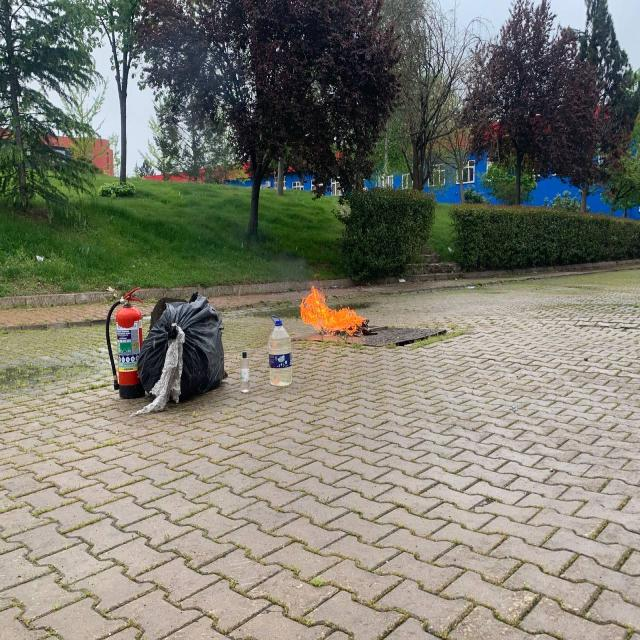fire: (296, 286, 376, 342)
